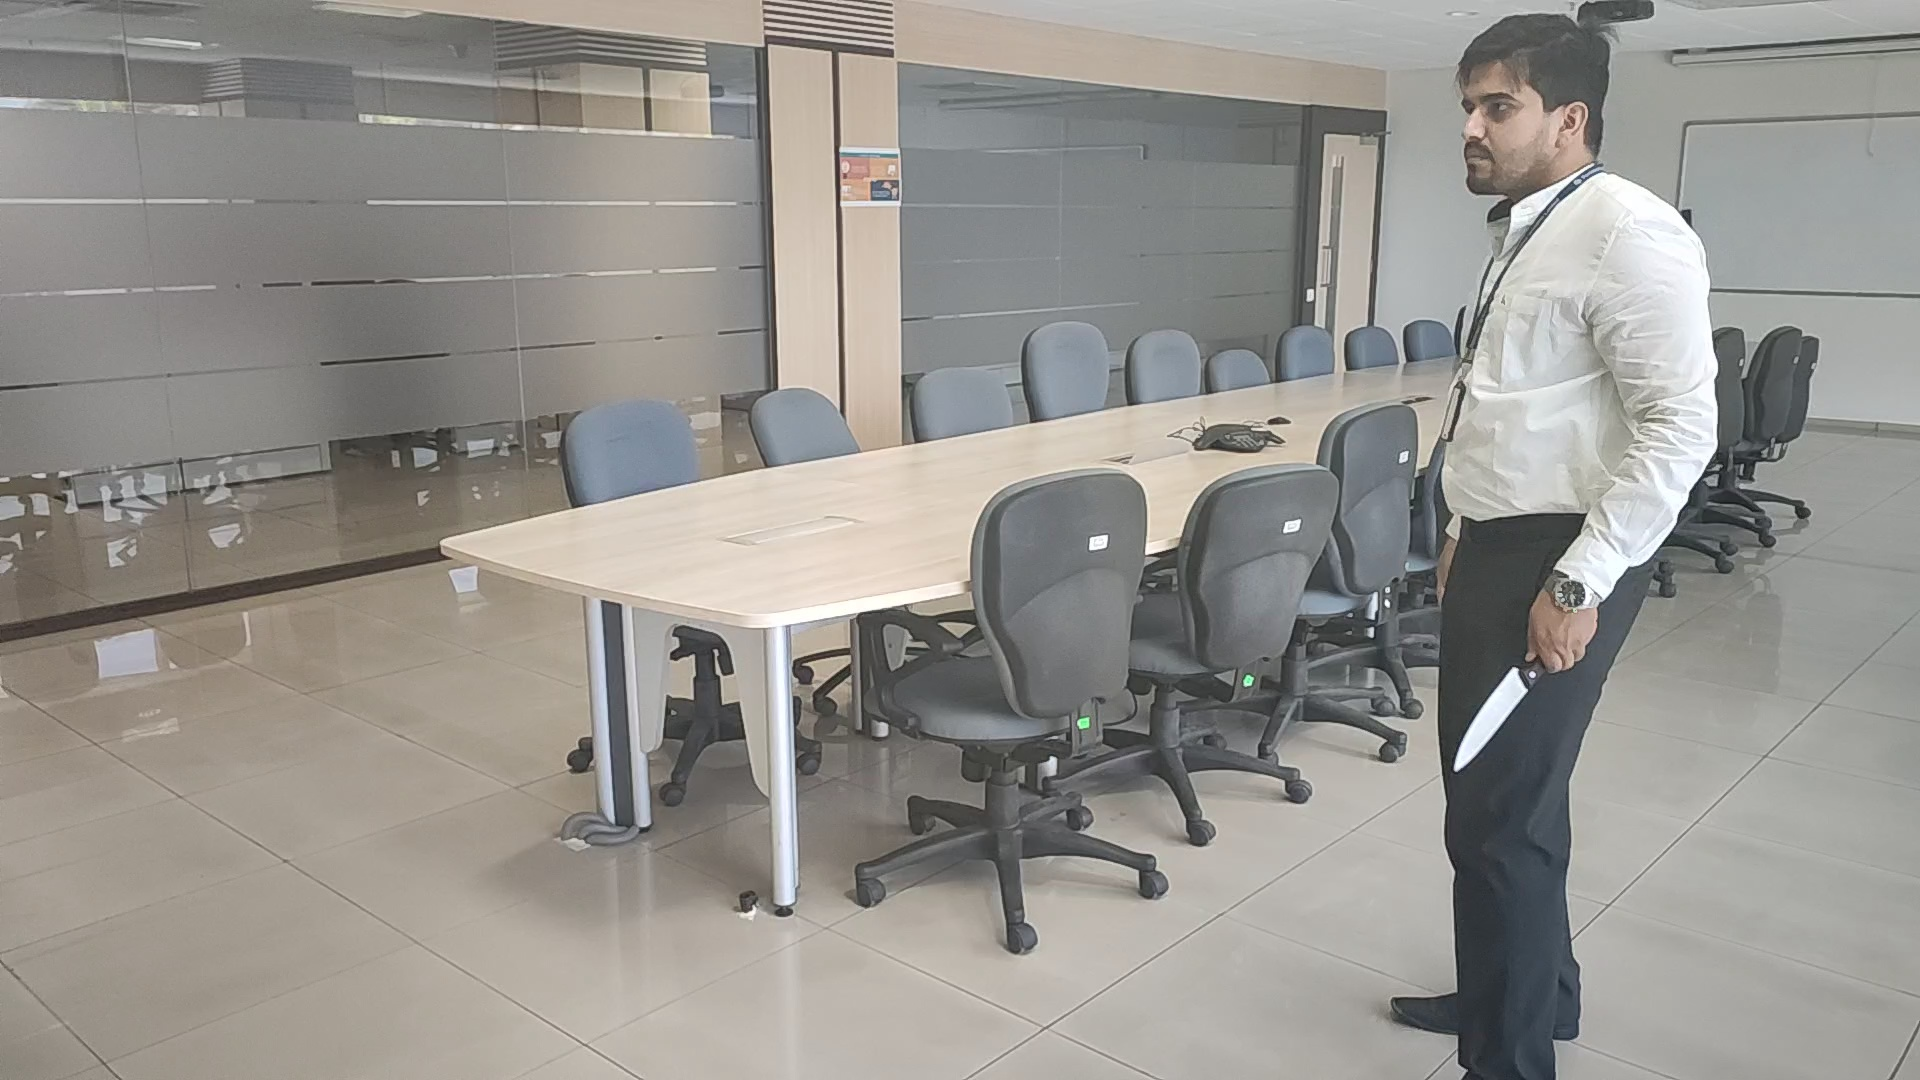knife: (1455, 666, 1528, 774)
